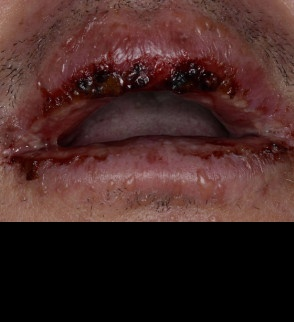SJS-TEN: (0, 2, 293, 154), (3, 134, 294, 230)
